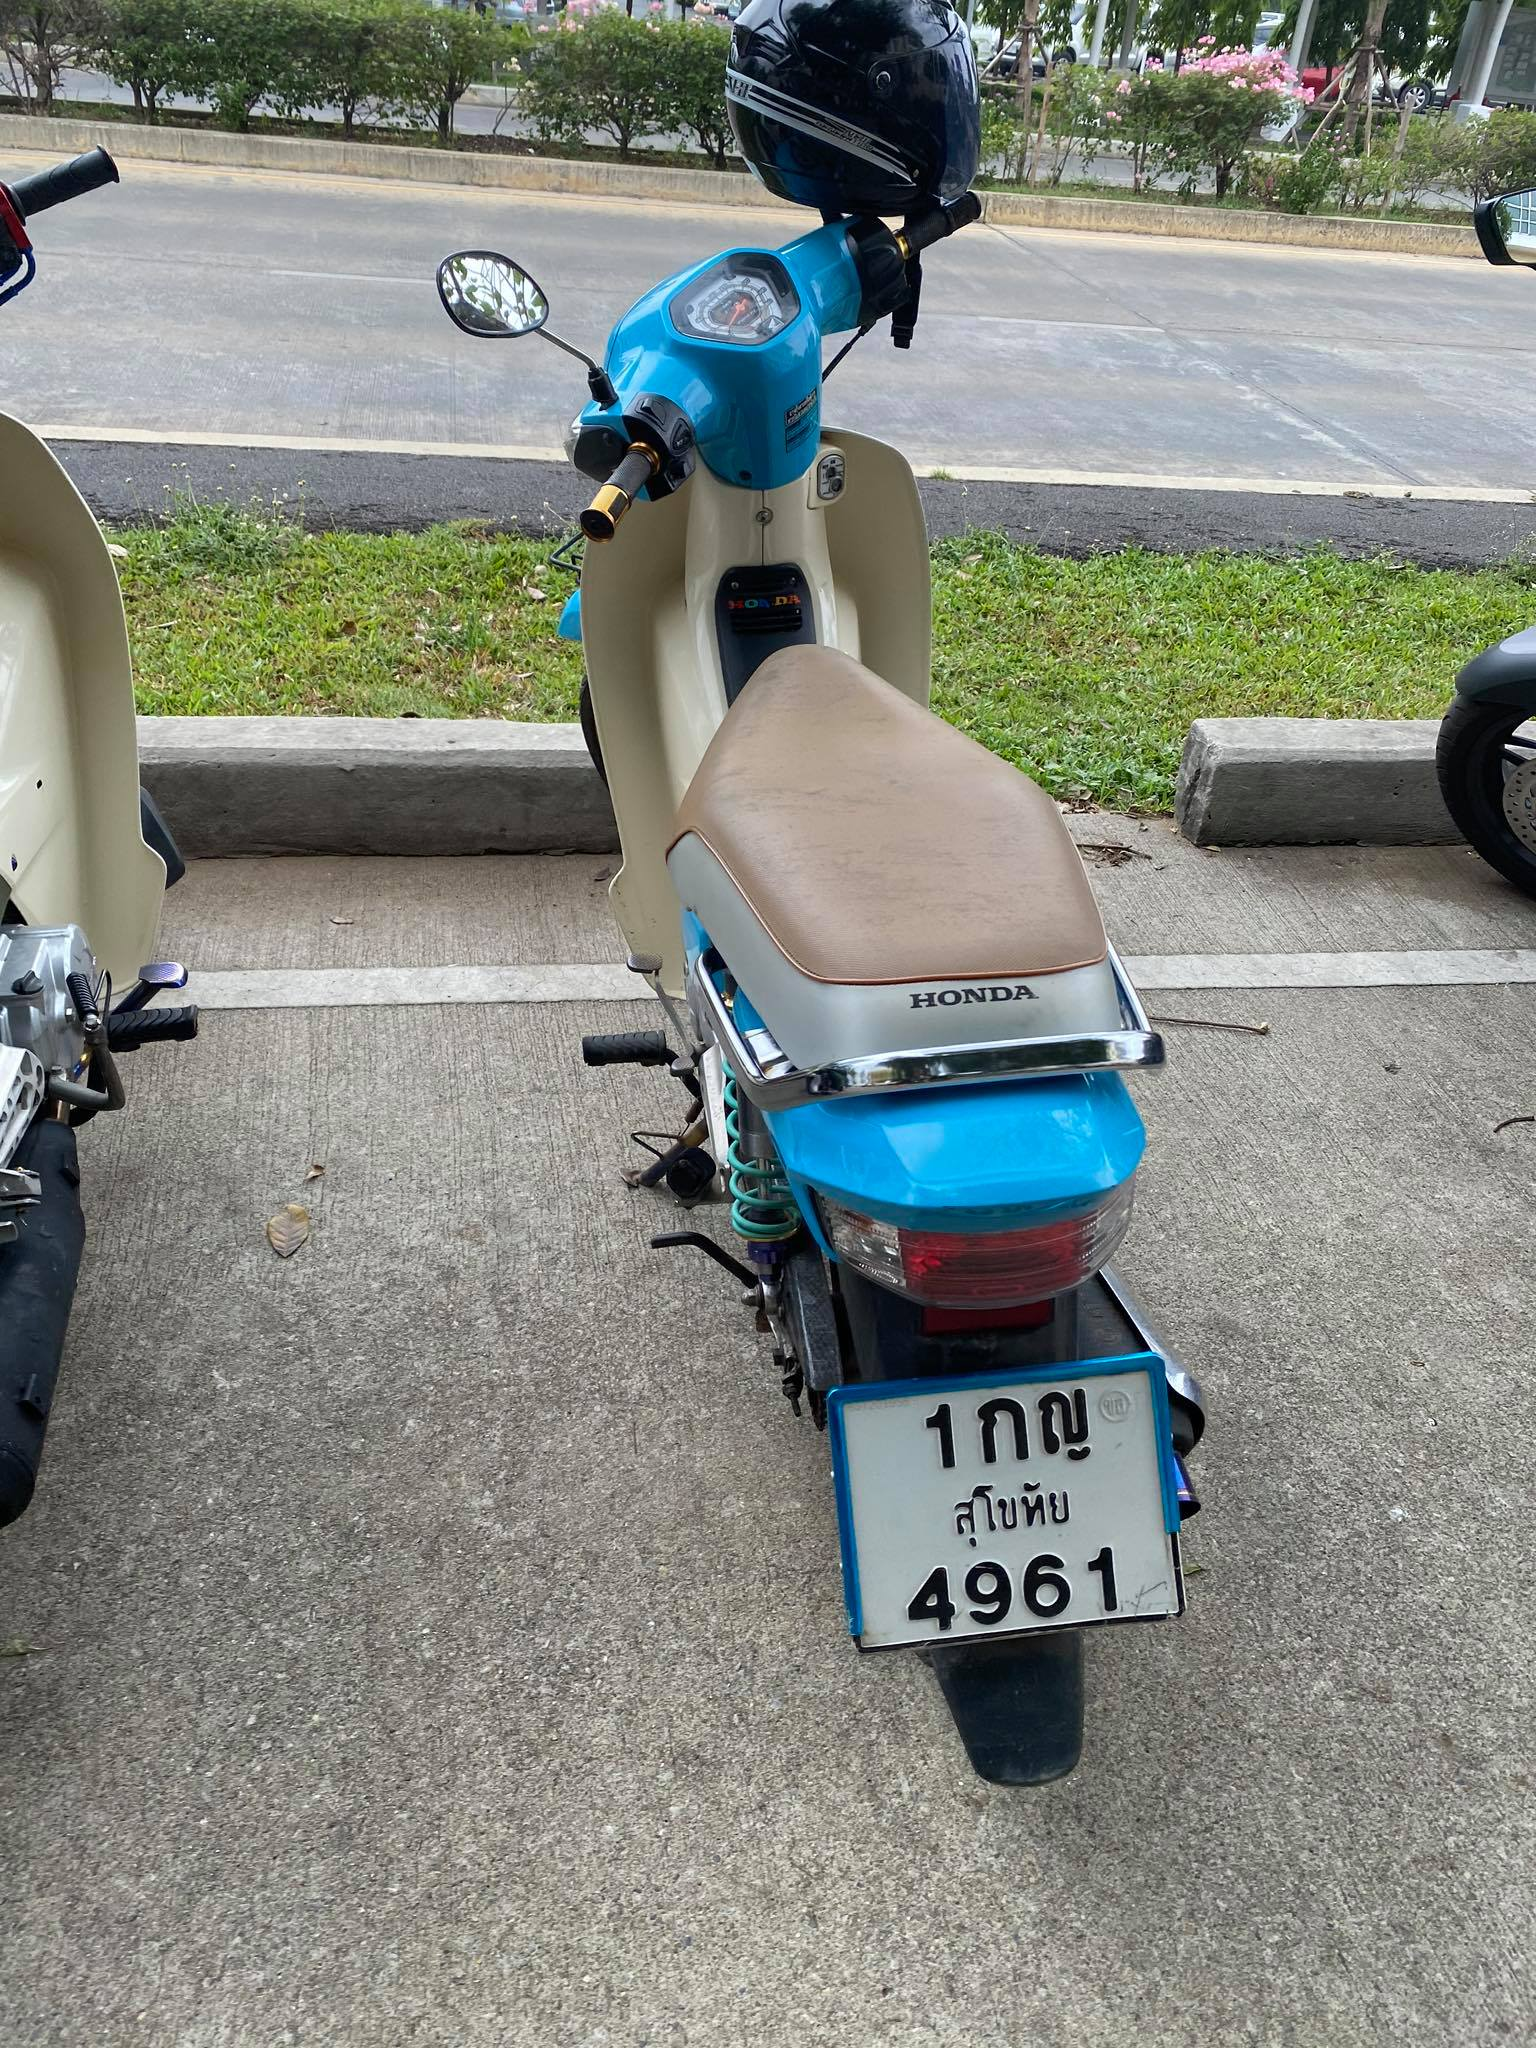line1: (904, 1367, 1107, 1467)
line2: (950, 1467, 1075, 1551)
line3: (904, 1551, 1137, 1638)
